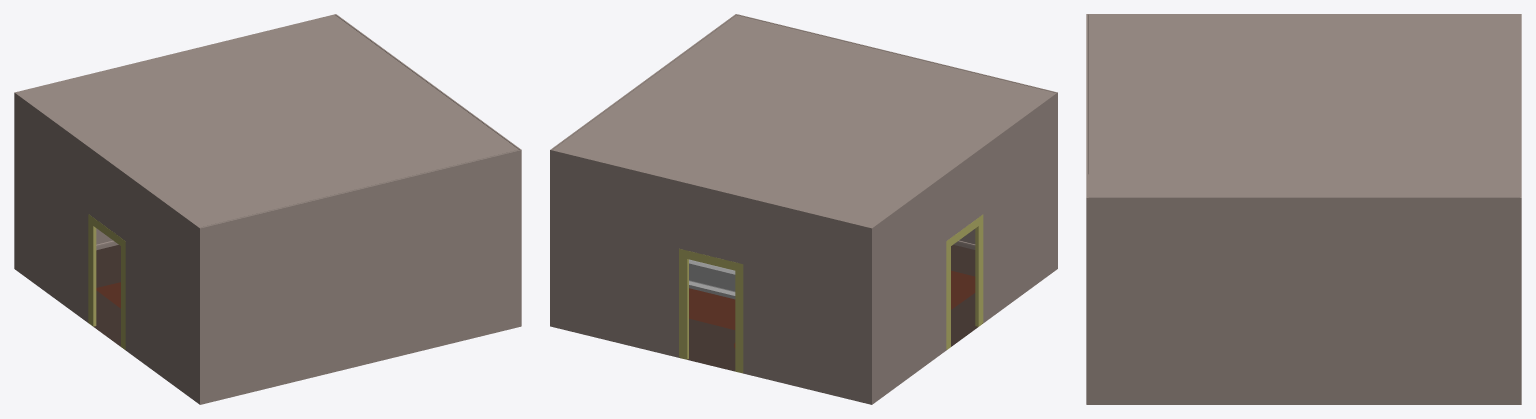
File: Room32_MasterBedroom.fbx
The picture shows the model from 3 angles, left to right: view 1: azimuth 30°, elevation 25°; view 2: azimuth 150°, elevation 25°; view 3: azimuth 270°, elevation 25°; orthographic projection. The views are drawn at different scales.
Parts seen in each view (by area): view 1: Roof, WallPosZ, WallSlicedPosX, WallPosZ17, WallSlicedPosX4, Floor, DoorFramePosX, WallNegX, WallSlicedNegZ; view 2: Roof, WallSlicedNegZ, WallSlicedPosX, WallSlicedNegZ28, WallSlicedPosX4, Floor, DoorFrameNegZ, pPlane11, DoorFramePosX, pCube98, WallNegX, WallPosZ; view 3: Roof, WallNegX, WallNegX18, WallSlicedPosX, WallPosZ.
Part boxes in pixels (x1=…): Roof: x1=17, y1=15, x2=518, y2=227; WallPosZ: x1=199, y1=150, x2=521, y2=364; WallSlicedPosX: x1=14, y1=92, x2=200, y2=364; WallPosZ17: x1=199, y1=286, x2=521, y2=404; WallSlicedPosX4: x1=14, y1=229, x2=199, y2=404; Floor: x1=89, y1=245, x2=120, y2=346; DoorFramePosX: x1=88, y1=214, x2=125, y2=349; WallNegX: x1=335, y1=14, x2=521, y2=285; WallSlicedNegZ: x1=14, y1=14, x2=335, y2=228; Roof: x1=553, y1=15, x2=1054, y2=227; WallSlicedNegZ: x1=550, y1=149, x2=872, y2=364; WallSlicedPosX: x1=870, y1=92, x2=1057, y2=364; WallSlicedNegZ28: x1=550, y1=286, x2=873, y2=404; WallSlicedPosX4: x1=869, y1=229, x2=1057, y2=404; Floor: x1=679, y1=244, x2=982, y2=373; DoorFrameNegZ: x1=679, y1=248, x2=743, y2=372; pPlane11: x1=689, y1=270, x2=975, y2=329; DoorFramePosX: x1=946, y1=214, x2=983, y2=349; pCube98: x1=689, y1=259, x2=735, y2=292; WallNegX: x1=550, y1=14, x2=736, y2=286; WallPosZ: x1=736, y1=14, x2=1057, y2=228; Roof: x1=1088, y1=14, x2=1519, y2=197; WallNegX: x1=1086, y1=197, x2=1521, y2=357; WallNegX18: x1=1086, y1=357, x2=1521, y2=404; WallSlicedPosX: x1=1086, y1=14, x2=1521, y2=174; WallPosZ: x1=1086, y1=14, x2=1087, y2=356.
Bounding box in the file's own units: 801 × 420 × 801.
